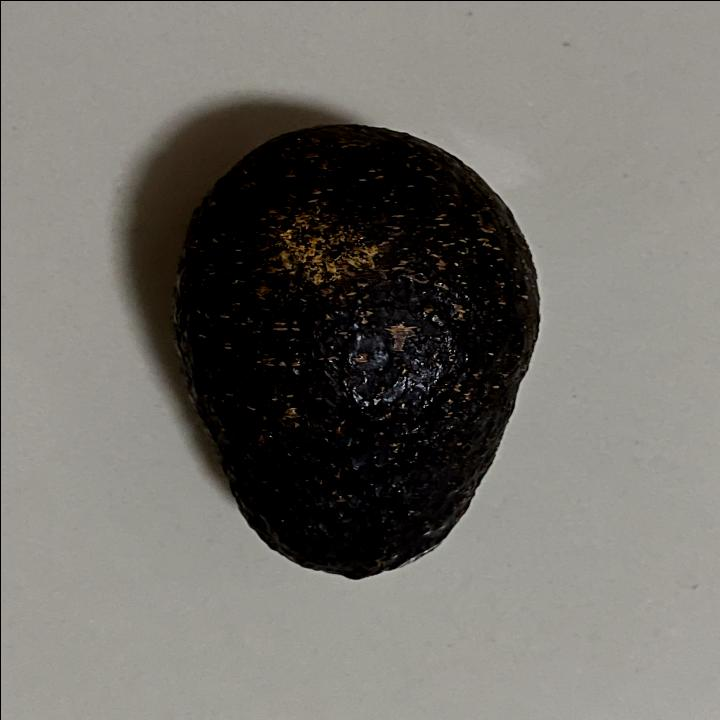Level3: (154, 112, 550, 590)
